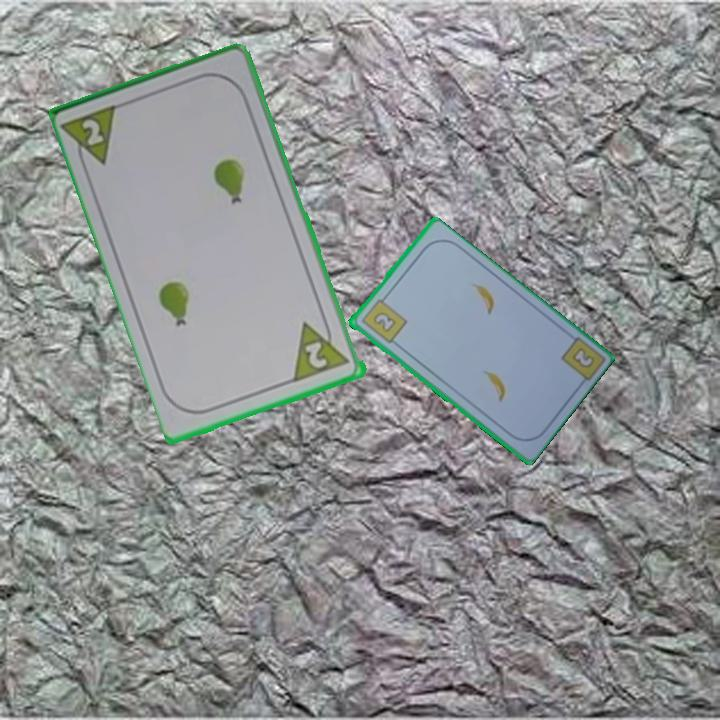2b: (357, 292, 409, 346), (570, 346, 595, 369)
2p: (301, 338, 331, 372), (79, 115, 108, 149)
